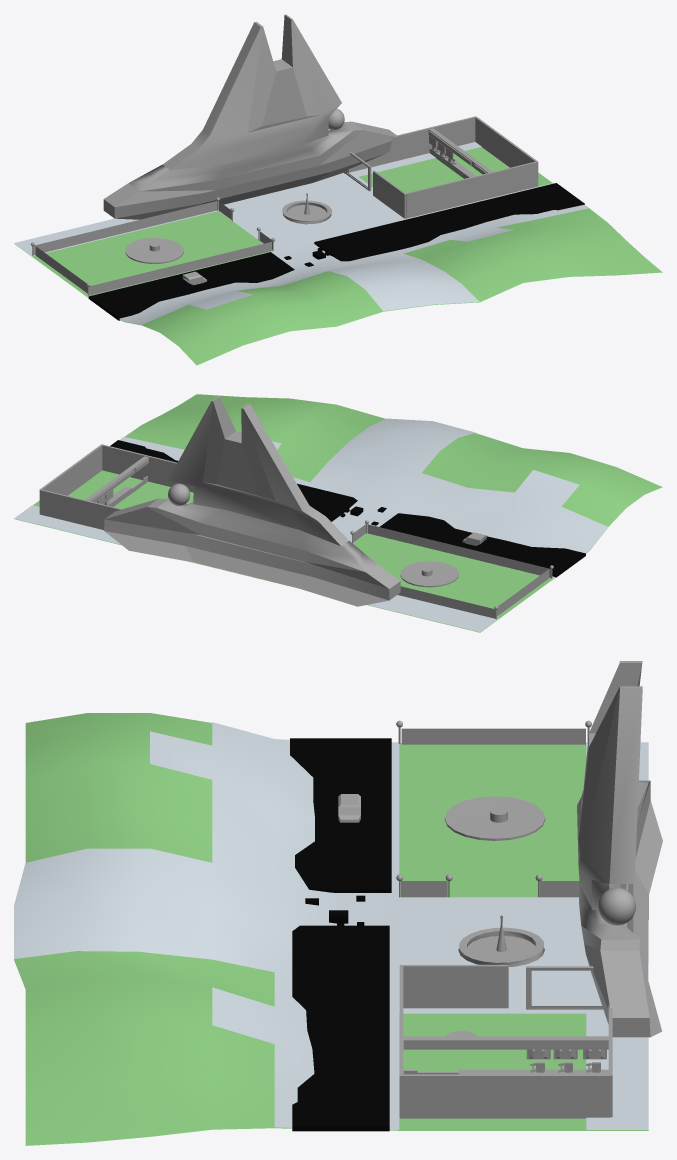
File: World With a Fountain.fbx
3 views of the same model, one above another, from view 1: azimuth 30°, elevation 25°; view 2: azimuth 150°, elevation 25°; view 3: azimuth 270°, elevation 25° (orthographic). The views are drawn at different scales.
Parts seen in each view (by area): view 1: pPlane3, pCube1, pPlane2, pCube4, pCube3, pCube12, pCube23, pPlane10, pPlane9, pCube13, pCylinder3, pCylinder2 (+2 smaller); view 2: pCube1, pPlane3, pPlane2, pCube3, pCube23, pPlane9, pCube12, pCube4, pCube13, pCylinder3, pPlane10, pPlane12 (+2 smaller); view 3: pPlane3, pPlane2, pCube1, pCube4, pCube3, pCube13, pCube26, pCylinder3, pPlane12, pCube15, pCylinder2, pSphere1 (+3 smaller).
Part boxes in pixels (x1,y1,x2,y2): pPlane3: (14,147,662,365); pCube1: (103,14,396,219); pPlane2: (14,142,589,324); pCube4: (314,183,584,261); pCube3: (88,252,294,320); pCube12: (406,161,537,218); pCube23: (343,116,475,173); pPlane10: (33,201,218,254); pPlane9: (89,242,271,295); pCube13: (475,116,538,186); pCylinder3: (125,238,183,263); pCylinder2: (282,193,331,224); pCube1: (104,396,400,606); pPlane3: (14,394,662,632); pPlane2: (14,418,607,631); pCube3: (380,513,585,577); pCube23: (39,489,122,529); pPlane9: (367,524,551,577); pCube12: (102,444,193,492); pCube4: (110,440,357,521); pCube13: (39,444,102,495); pCylinder3: (400,561,458,587); pPlane10: (397,586,495,618); pPlane12: (497,569,549,616); pPlane3: (14,713,648,1145); pPlane2: (14,722,648,1129); pCube1: (577,661,662,1037); pCube4: (292,925,389,1131); pCube3: (290,738,391,892); pCube13: (400,1074,610,1118); pCube26: (400,965,508,1008); pCylinder3: (444,796,545,840); pPlane12: (401,728,585,744); pCube15: (403,1036,608,1049); pCylinder2: (458,915,544,966); pSphere1: (598,887,635,925).
Size of the model in its own units: 103 by 36.53 by 72.71.
